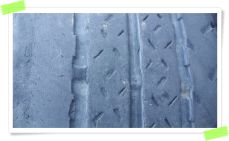bad_condition: (13, 13, 216, 126)
